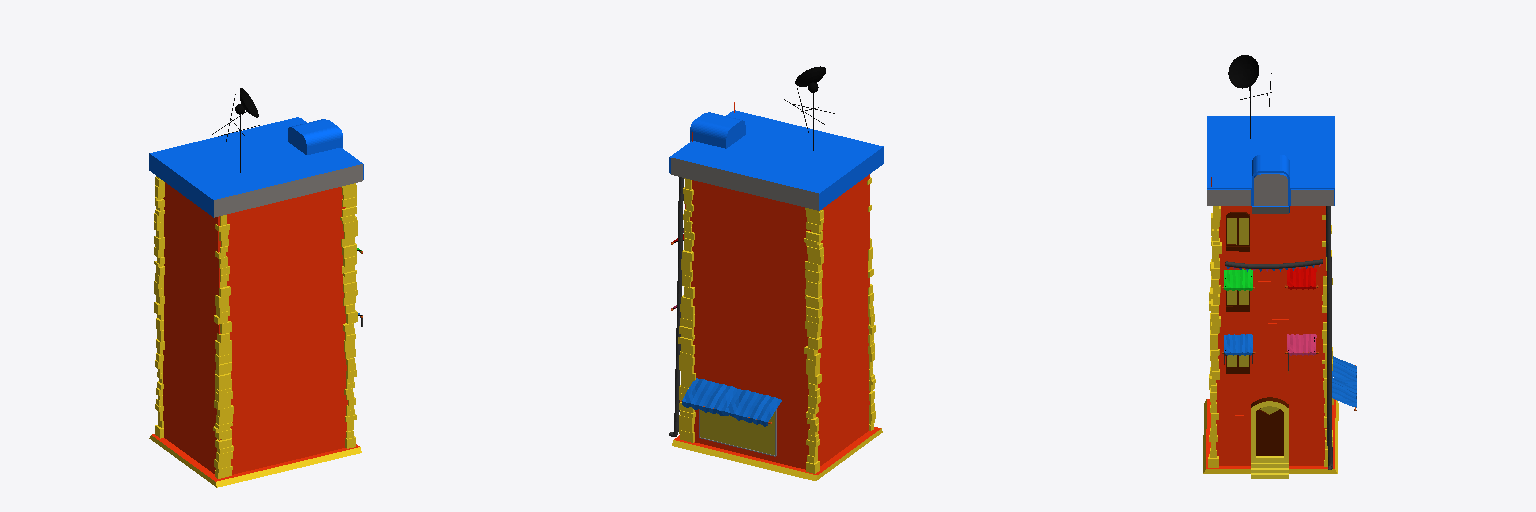
Rendered from WeirdTown21obj.obj.
3 views of the same model, side by side, from view 1: azimuth 30°, elevation 25°; view 2: azimuth 150°, elevation 25°; view 3: azimuth 270°, elevation 25° (orthographic).
Size of the model in its own units: 9.5 by 21.28 by 8.02.